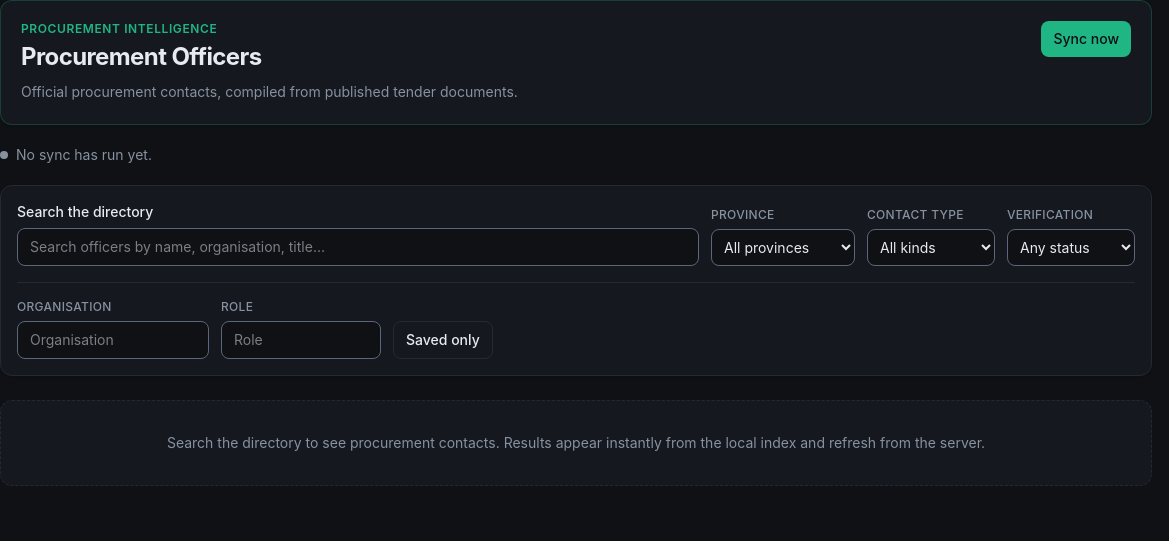
Test: ProcurementOfficerDirectory shell › searches the local index and shows result rows
The image size is (1169, 541).
Type "Mokoena" into the search field named "Search officers".
click(358, 247); type("Mokoena")  # box [17,228,699,266]
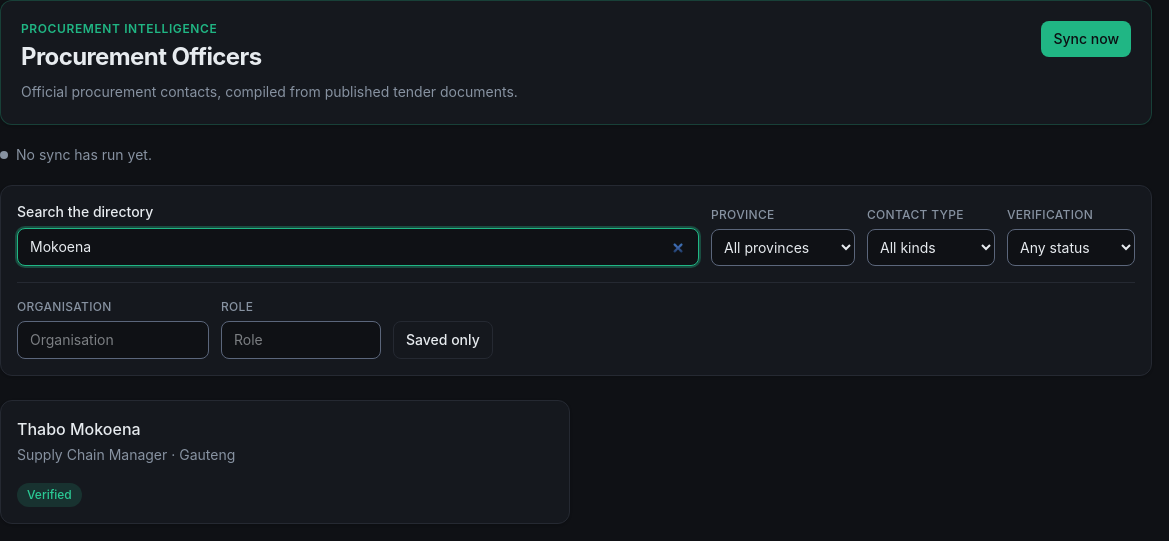
Check: the text "Thabo Mokoena" is shown, box [17,419,141,439]
Check: the text "Supply Chain Manager · Gauteng" is shown, box [17,446,235,463]
